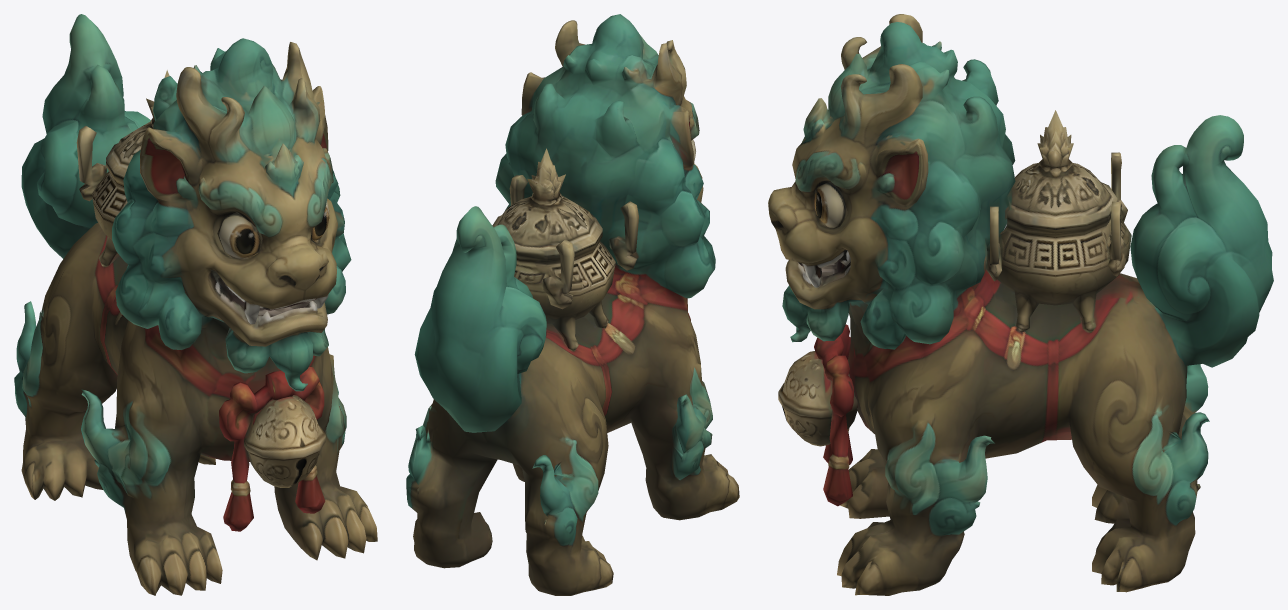
The model's file is SK_Pet_Suanni_tripo_original.glb.
3 views of the same model, side by side, from view 1: azimuth 30°, elevation 25°; view 2: azimuth 150°, elevation 25°; view 3: azimuth 270°, elevation 25° (orthographic). The views are drawn at different scales.
Parts seen in each view (by area): view 1: tripo_node_da1a2c9a-8ec4-4aac-9f31-9c69994b2a60; view 2: tripo_node_da1a2c9a-8ec4-4aac-9f31-9c69994b2a60; view 3: tripo_node_da1a2c9a-8ec4-4aac-9f31-9c69994b2a60.
Part boxes in pixels (<box>): tripo_node_da1a2c9a-8ec4-4aac-9f31-9c69994b2a60: <box>14,14,377,595</box>; tripo_node_da1a2c9a-8ec4-4aac-9f31-9c69994b2a60: <box>406,14,739,595</box>; tripo_node_da1a2c9a-8ec4-4aac-9f31-9c69994b2a60: <box>768,14,1273,595</box>.
Size of the model in its own units: 0.4966 by 0.9995 by 0.8794.
1 material, 1 textured.
